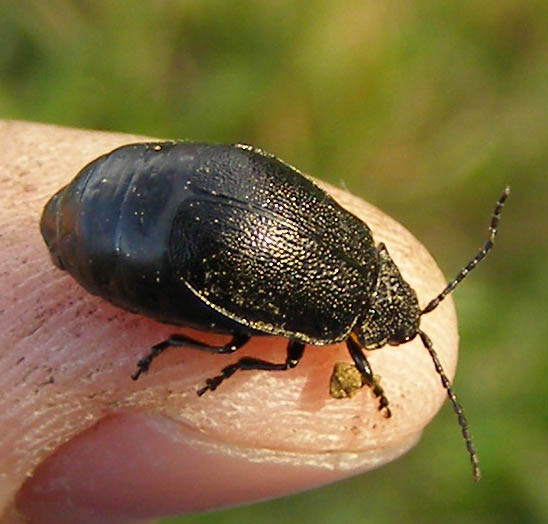Galeruca_tanaceti: (35, 122, 514, 481)
